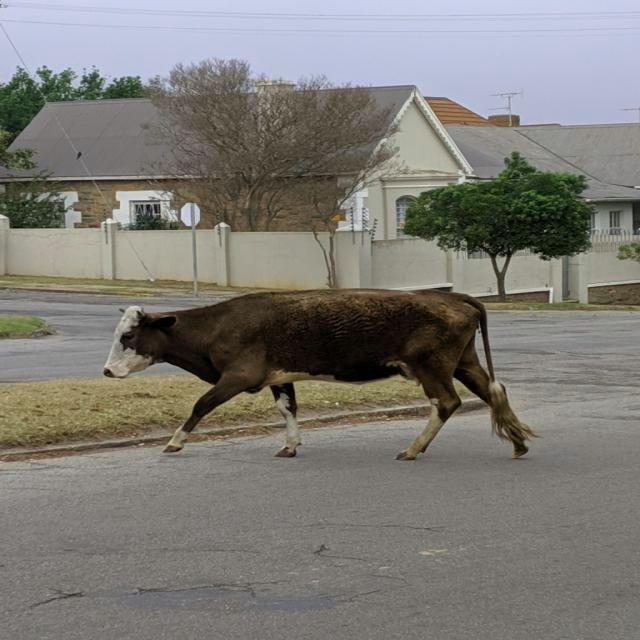cow: (104, 289, 534, 460)
